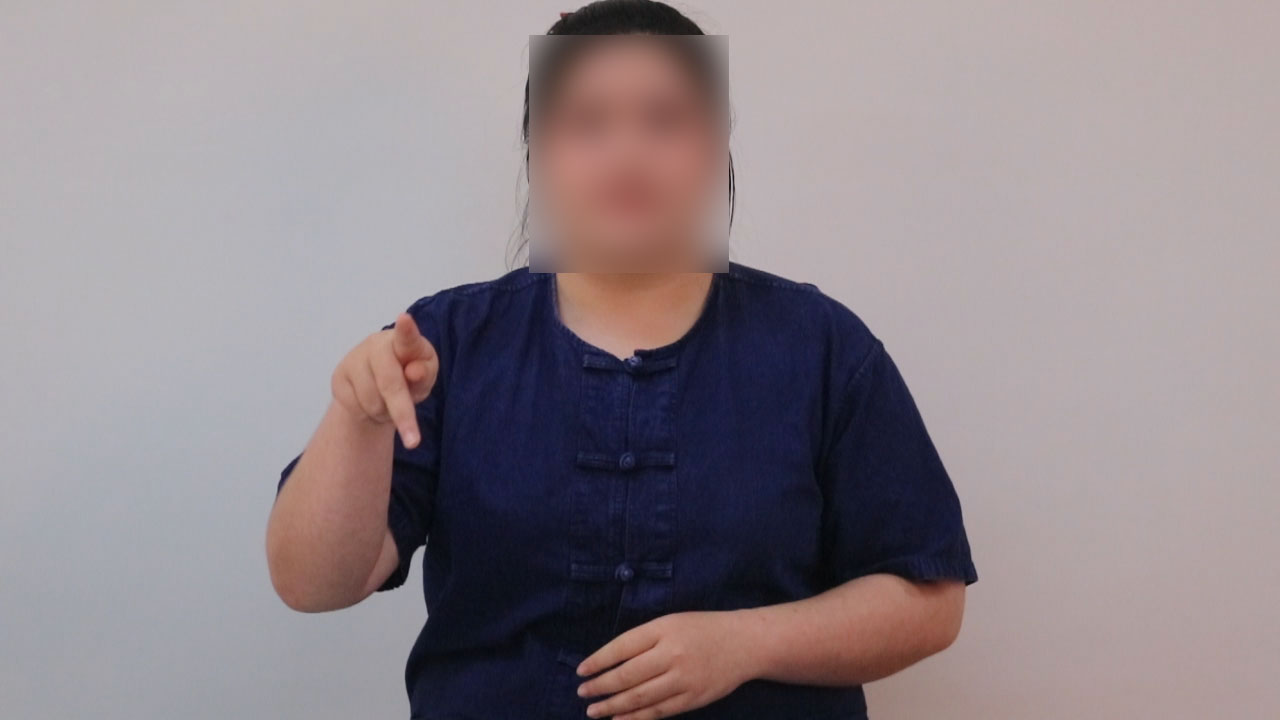por: (303, 303, 455, 460)
